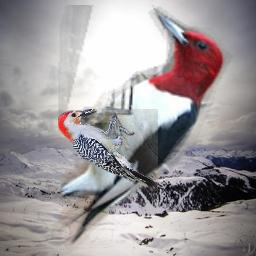Woodpecker: (42, 5, 238, 253), (58, 109, 158, 191)
